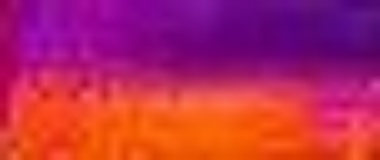Shadow: (20, 1, 379, 83)
